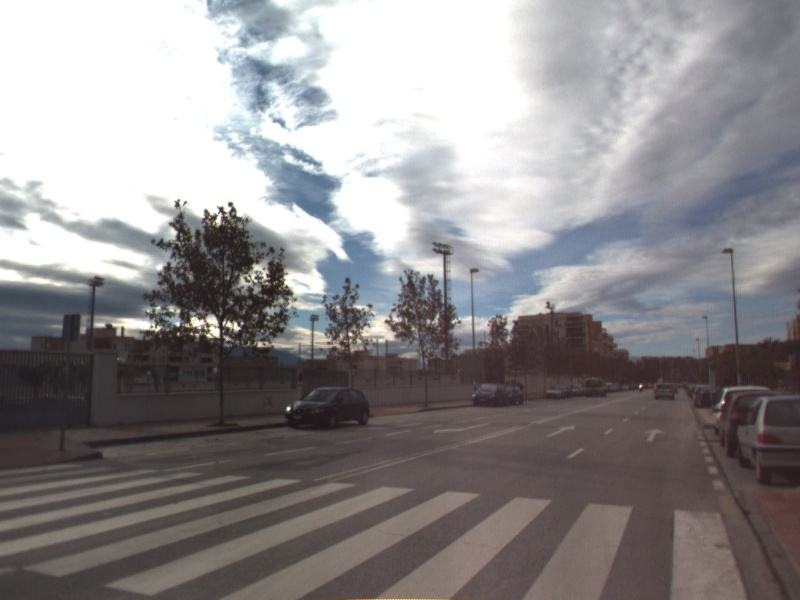STRAIGHT: (544, 423, 577, 439), (641, 426, 668, 443)
